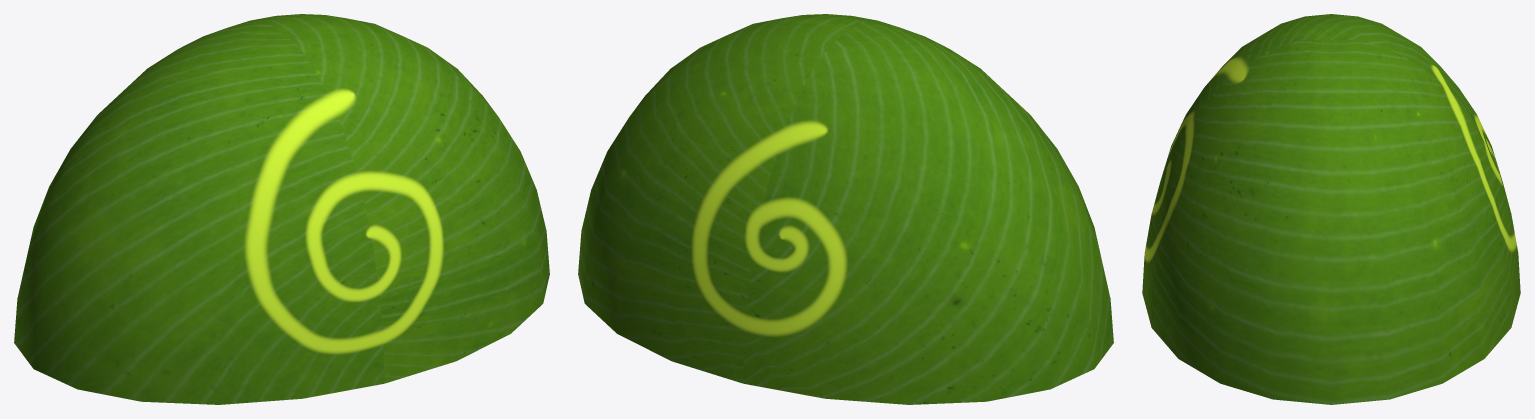
The model's file is Caparazon.glb.
3 renders of one model, left to right at view 1: azimuth 30°, elevation 25°; view 2: azimuth 150°, elevation 25°; view 3: azimuth 270°, elevation 25°, orthographic. The views are drawn at different scales.
Parts seen in each view (by area): view 1: Caparazon; view 2: Caparazon; view 3: Caparazon.
Boxes of the visible parts, <box> form: Caparazon: <box>14,14,549,404</box>; Caparazon: <box>578,14,1113,404</box>; Caparazon: <box>1142,14,1520,404</box>.
Bounding box in the file's own units: 0.0187 × 0.00988 × 0.0134.
Materials: 1 (1 with a texture image).
